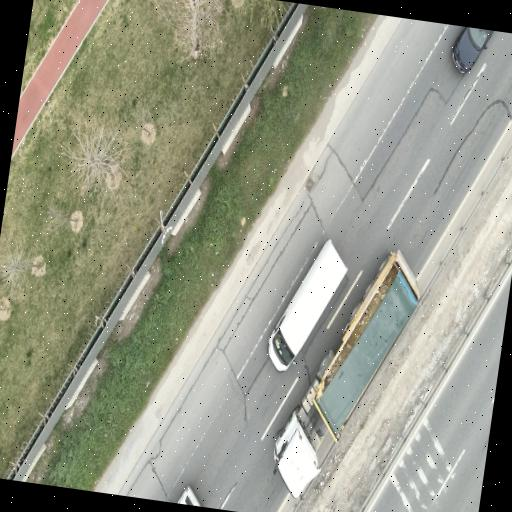car: (452, 27, 492, 72), (177, 486, 199, 506)
truck: (273, 251, 418, 496), (268, 239, 346, 370)
